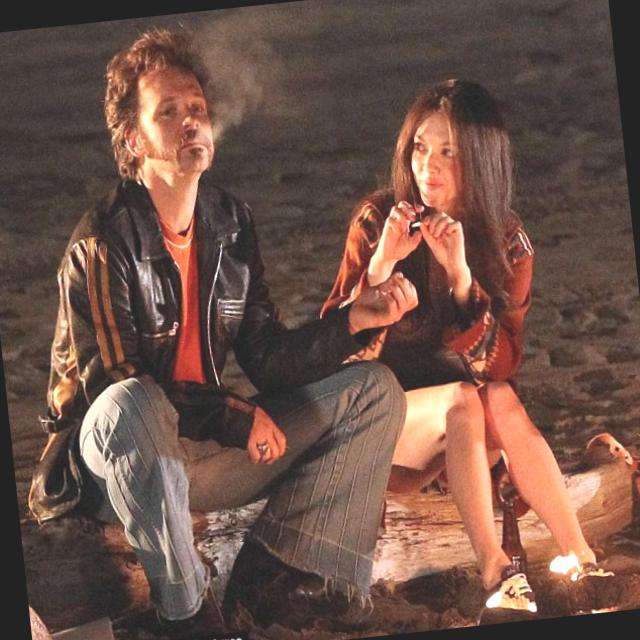smoke: (408, 216, 433, 231)
